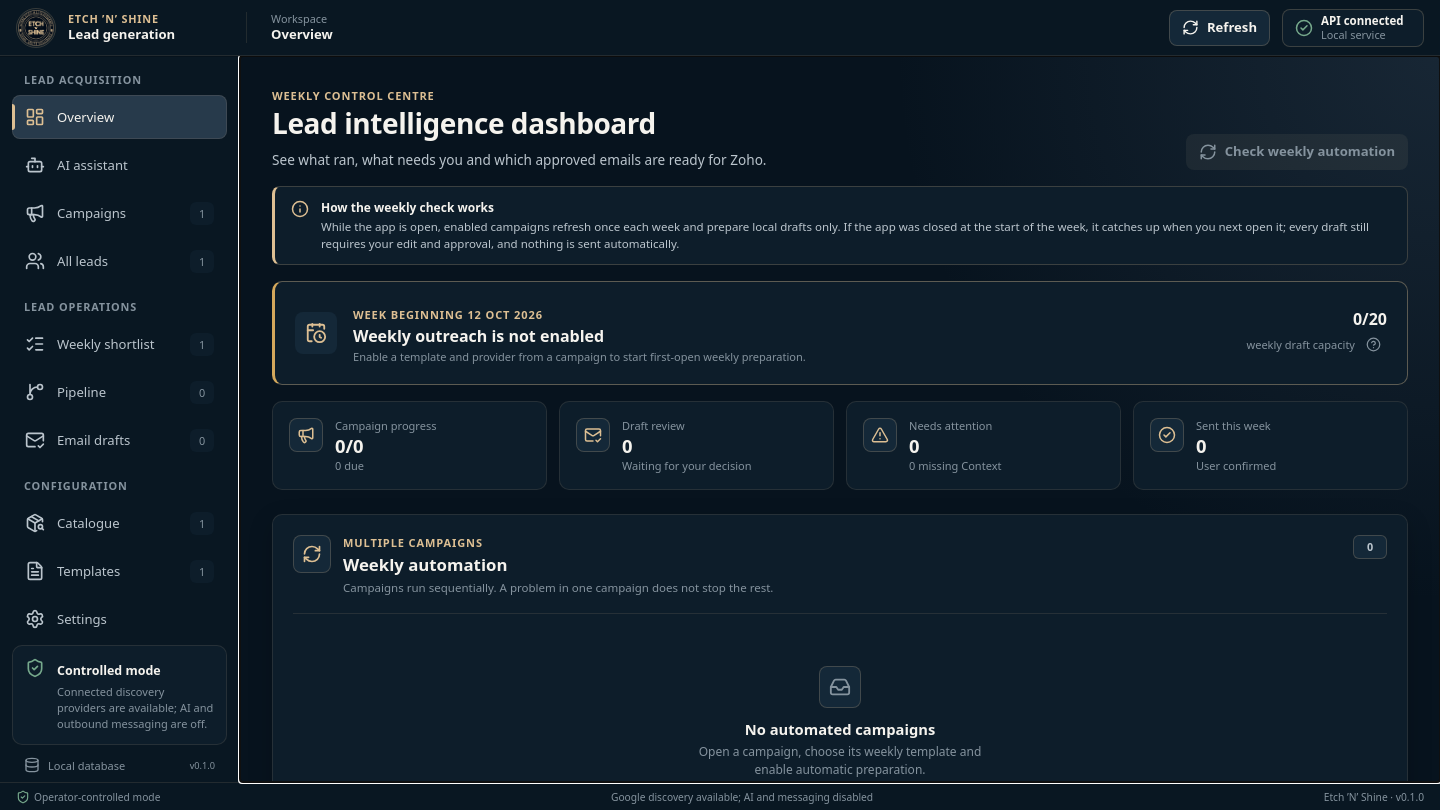
Scenario: local operating workbench › navigates from a dashboard metric card to the pre-filtered leads register
Expected: the text "API connected" is shown, x1=1321 y1=14 x2=1404 y2=28
Click the button "Needs attention 0 0 missing Context". click: {"x": 880, "y": 435}
box: x1=846 y1=401 x2=1121 y2=490
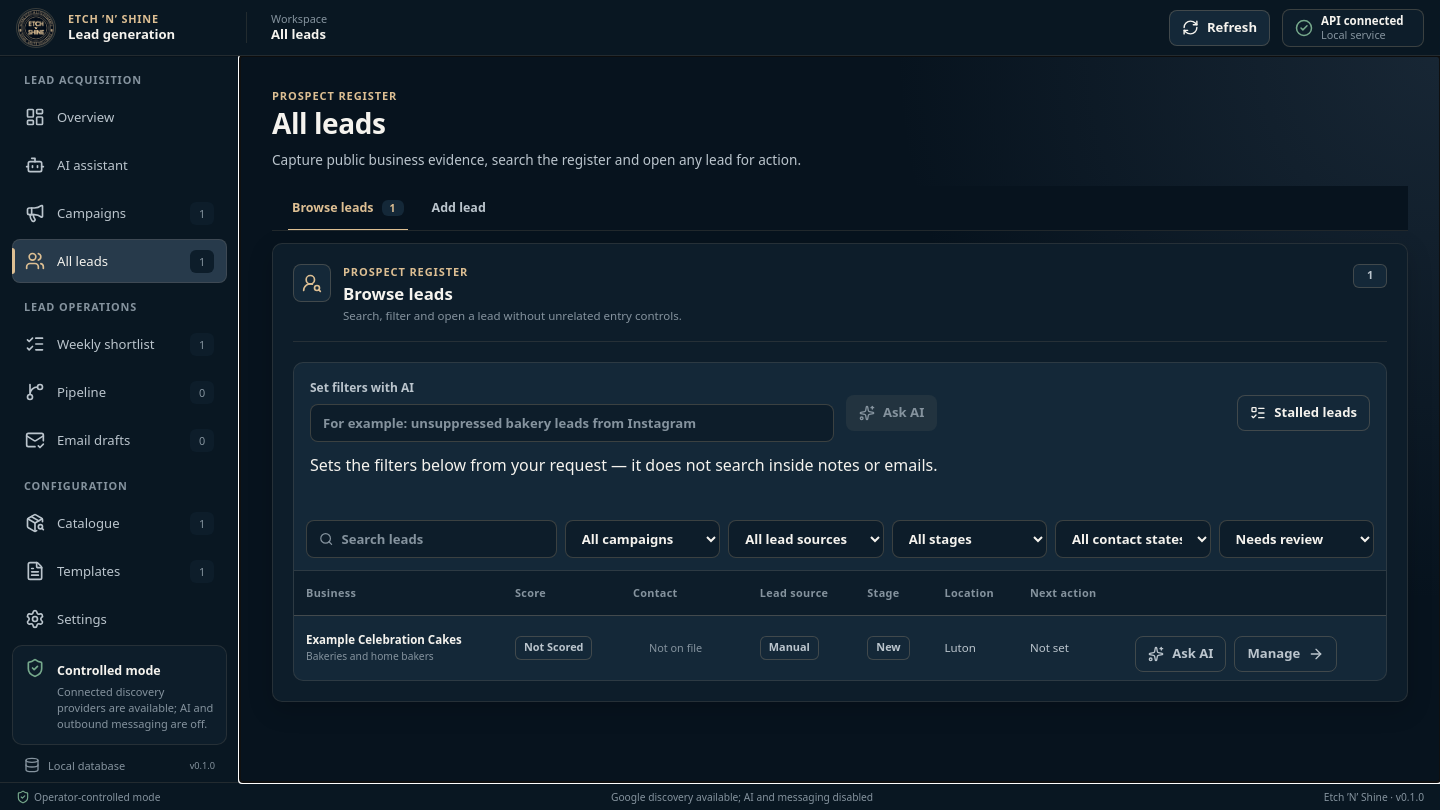
Now the heading "All leads" is shown, box x1=272 y1=104 x2=386 y2=142
Now the 5th dropdown named "Filter by review status" shows "Needs review", box x1=1218 y1=520 x2=1374 y2=558
Now the text "Example Celebration Cakes" is shown, box x1=306 y1=632 x2=476 y2=647
